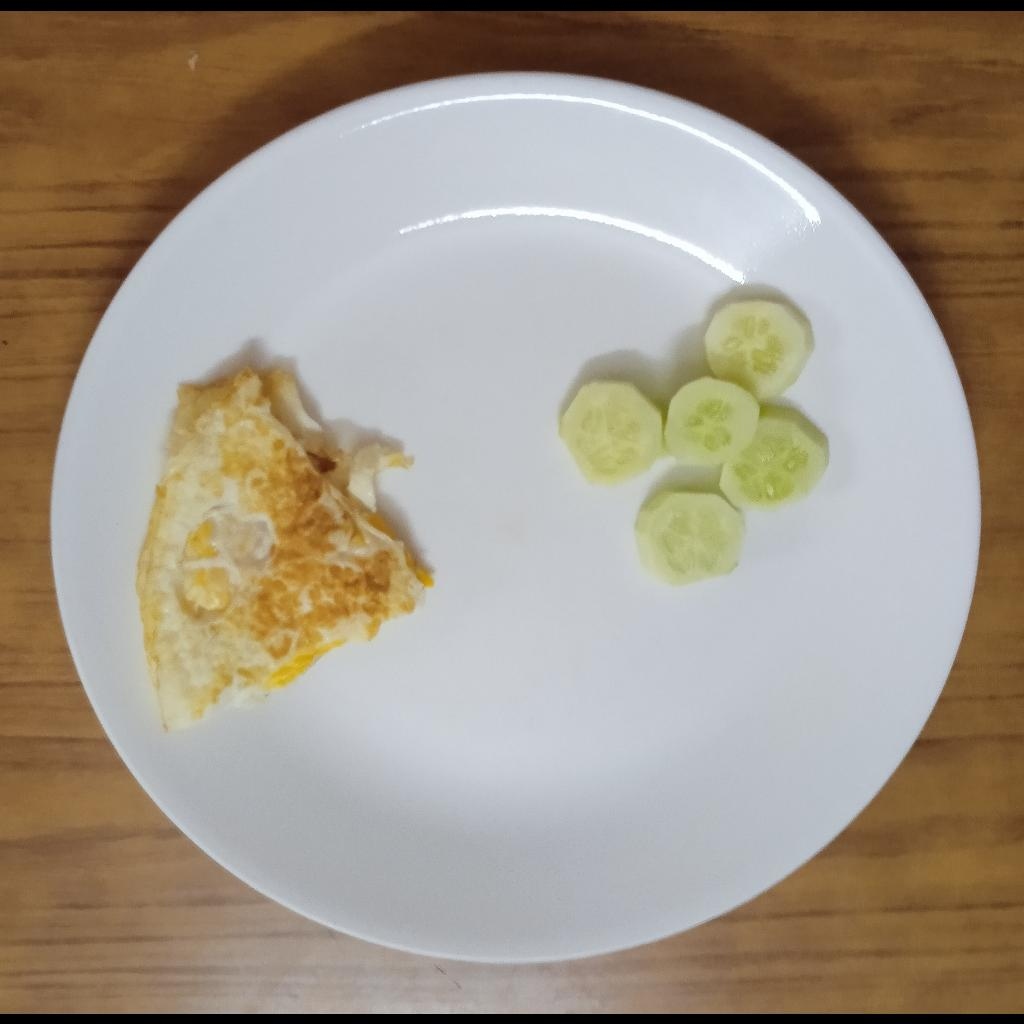cucumber: (558, 296, 829, 587)
egg-poached: (135, 361, 433, 727)
